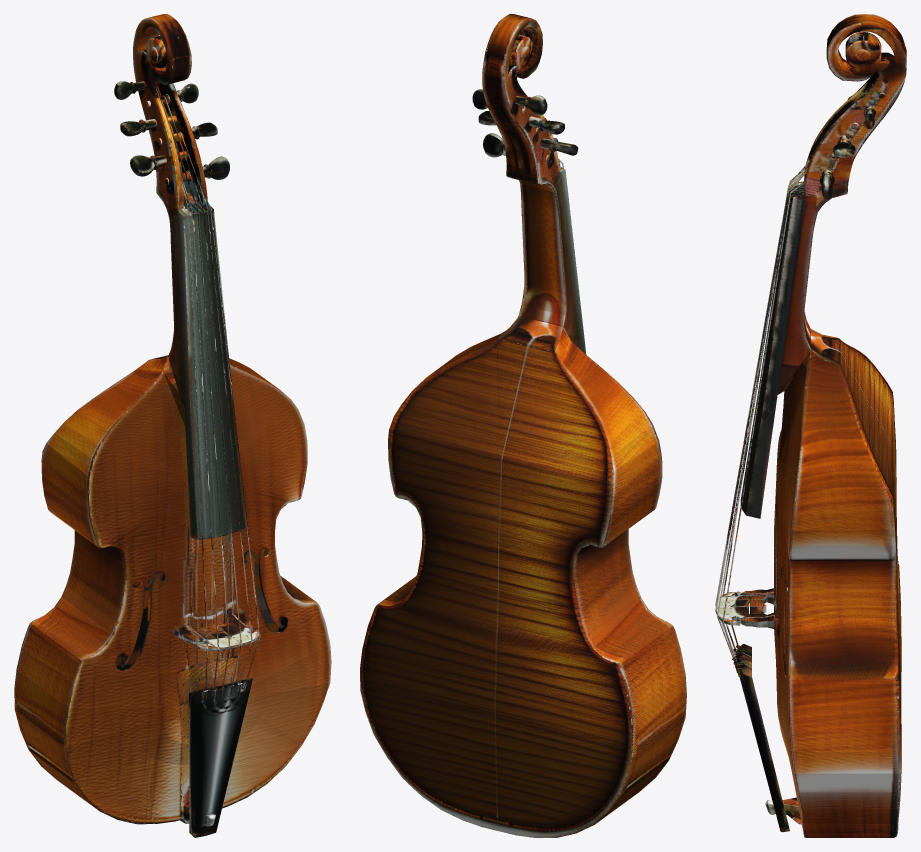
The model's file is textured_ours.glb.
3 renders of one model, left to right at view 1: azimuth 30°, elevation 25°; view 2: azimuth 150°, elevation 25°; view 3: azimuth 270°, elevation 25°, orthographic. The views are drawn at different scales.
Visible parts, largest first — view 1: Node; view 2: Node; view 3: Node.
Boxes of the visible parts, box(x1,y1,x2,y2) form: Node: box(14, 14, 331, 837); Node: box(360, 14, 686, 837); Node: box(715, 14, 906, 837).
Bounding box in the file's own units: 0.7077 × 2 × 0.4291.
Materials: 1 (1 with a texture image).
